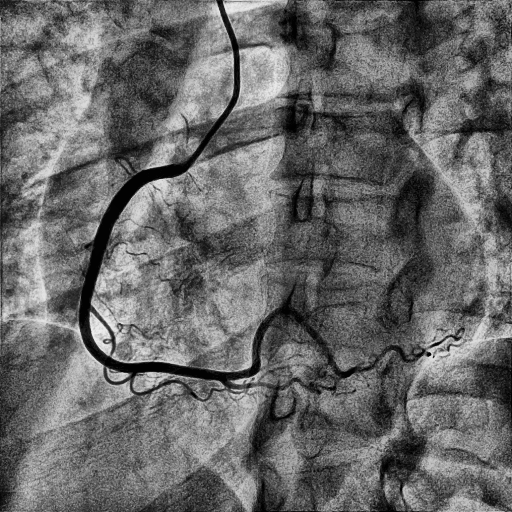pborca: (224, 308, 376, 380)
pda: (222, 377, 356, 395)
rca: (79, 163, 224, 381)
